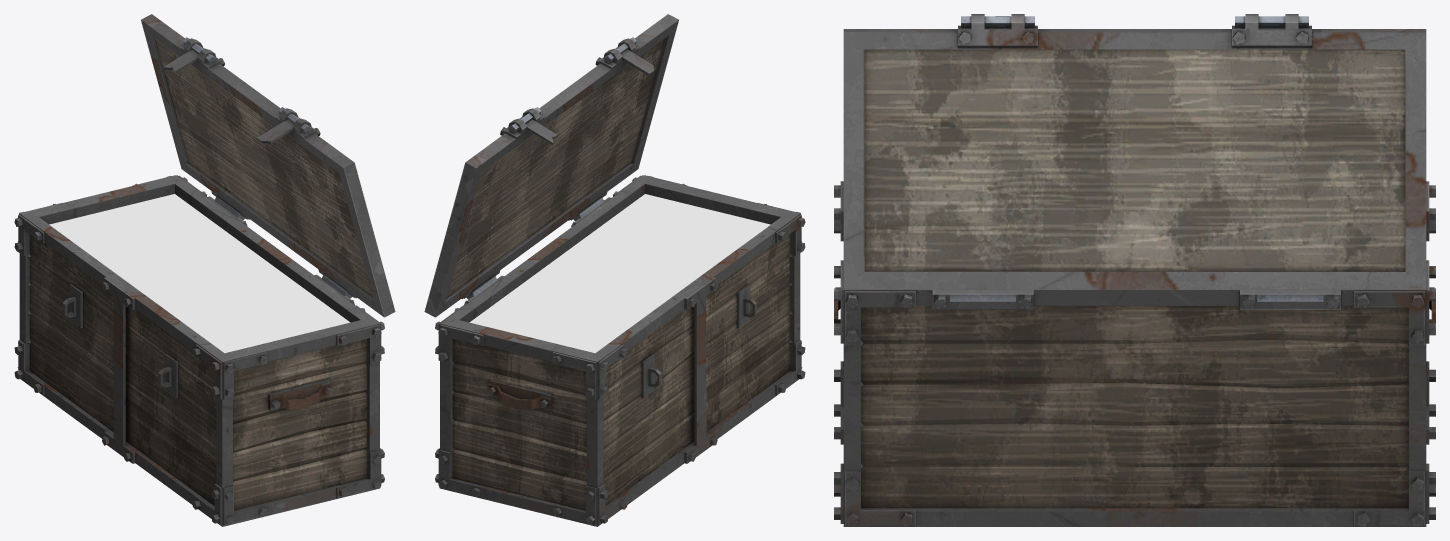
Rendered from Chest1x2x1.glb.
3 renders of one model, left to right at view 1: azimuth 30°, elevation 25°; view 2: azimuth 150°, elevation 25°; view 3: azimuth 270°, elevation 25°, orthographic. The views are drawn at different scales.
Visible parts, largest first — view 1: Chest, Lid, BasketTrigger; view 2: Chest, Lid, BasketTrigger; view 3: Lid, Chest.
Part boxes in pixels (bbox=[...]): Chest: bbox=[14, 175, 384, 526]; Lid: bbox=[141, 14, 395, 317]; BasketTrigger: bbox=[49, 194, 350, 352]; Chest: bbox=[435, 175, 805, 526]; Lid: bbox=[424, 14, 678, 317]; BasketTrigger: bbox=[469, 194, 770, 352]; Lid: bbox=[843, 14, 1426, 301]; Chest: bbox=[834, 181, 1435, 526].
Bounding box in the file's own units: 0.935 × 1.67 × 1.85.
2 materials, 1 textured.
